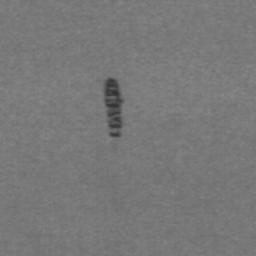Secondary rust skin: (104, 78, 123, 138)
